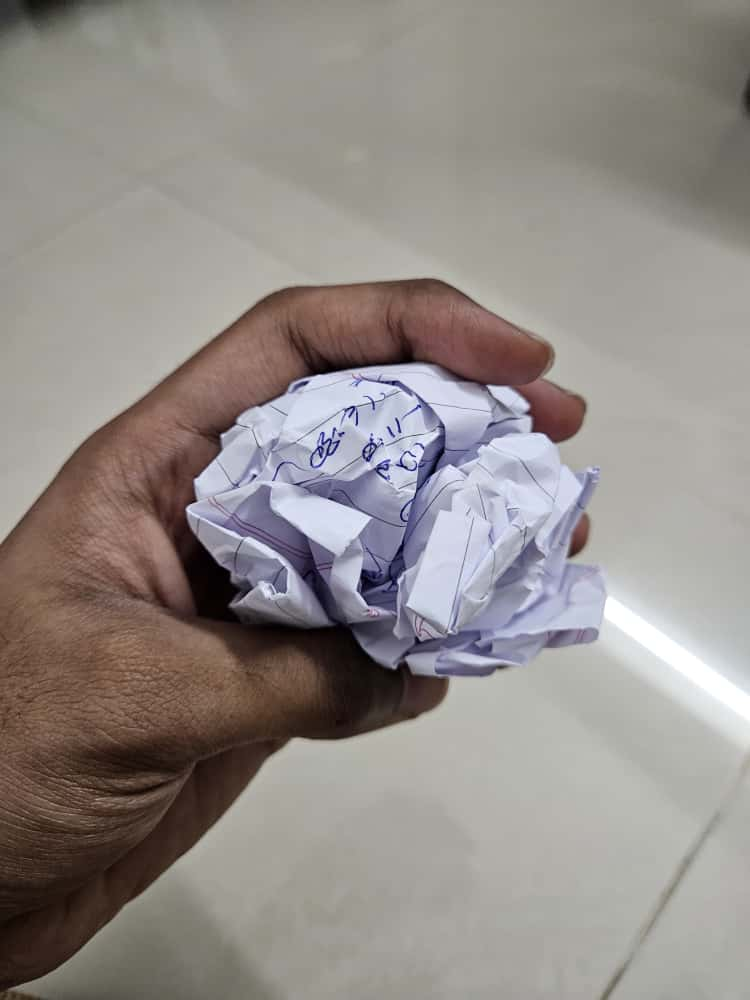dry: (165, 315, 689, 695)
